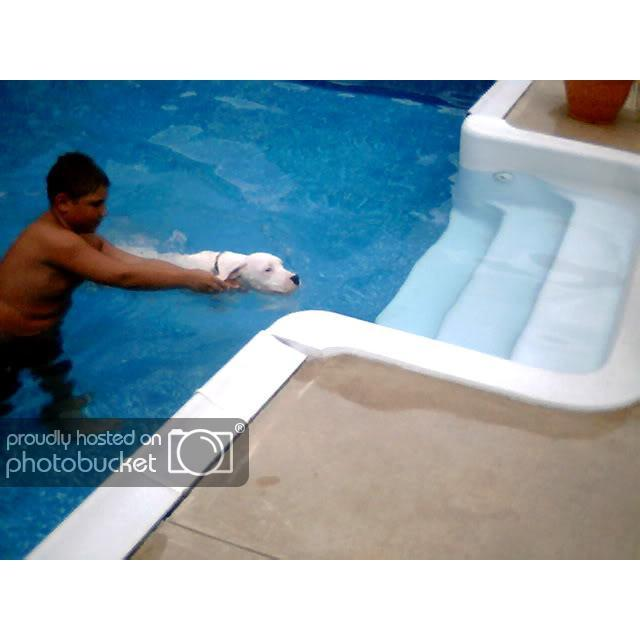human: (1, 148, 241, 404)
